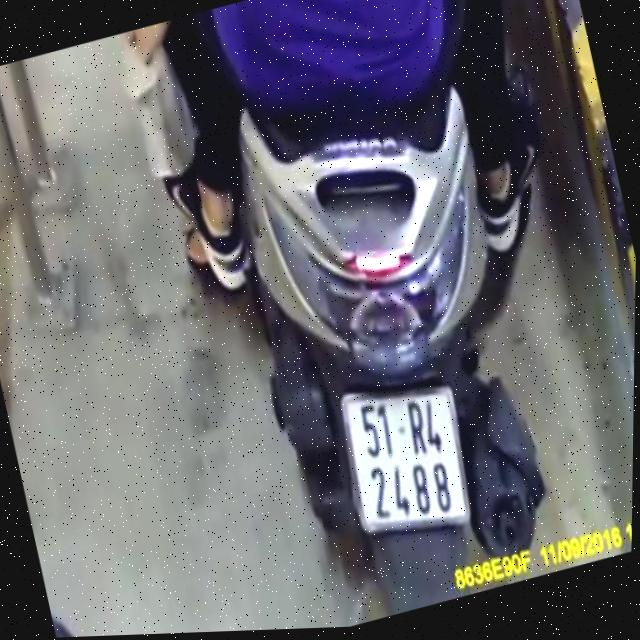motorcycle: (193, 45, 581, 633)
plate: (326, 365, 481, 550)
